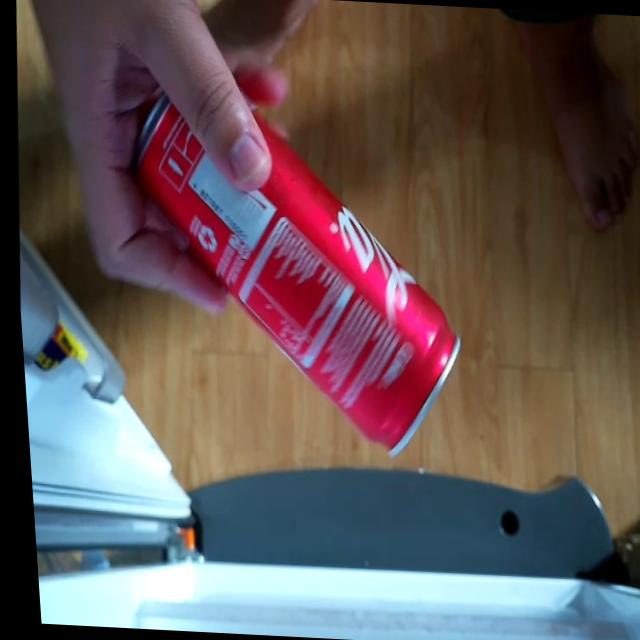coke: (97, 48, 484, 464)
